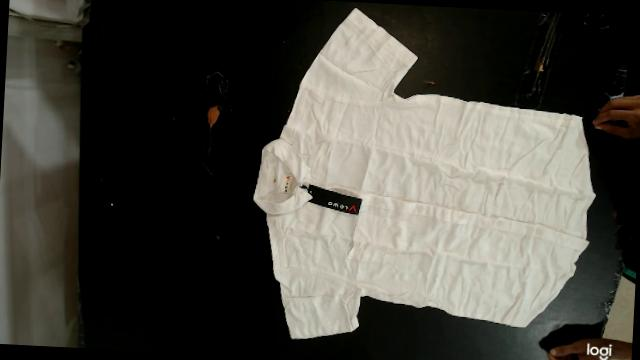new-garment: (253, 8, 594, 338)
